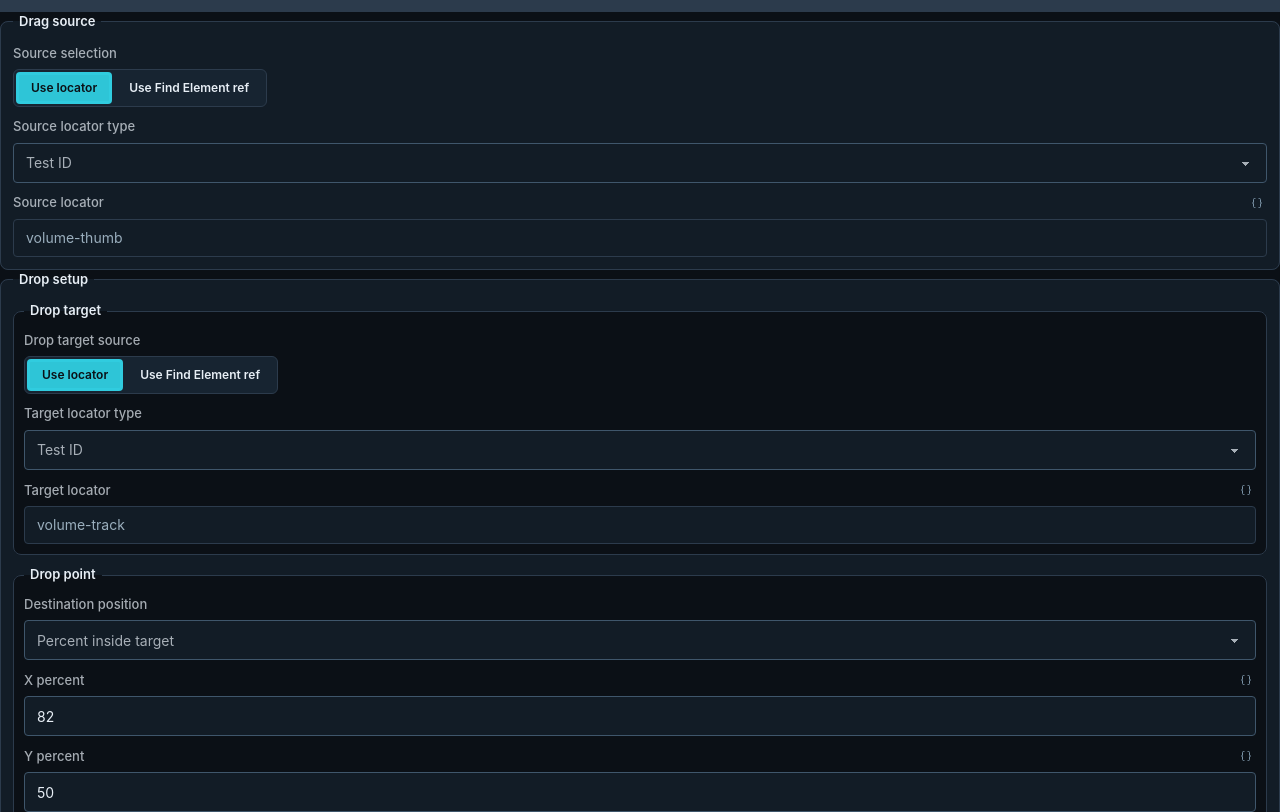
Test: ActionConfigEditor › Drag and Drop editor groups source and drop setup fields
Check: the dropdown labelled "Source locator type" shows "Test ID", box 13,142 -> 1267,182
Check: the field labelled "Source locator" holds "volume-thumb", box 14,220 -> 1266,256
Replace the text in the number field labelled "X percent" with "75" at (640, 716), box 24,696 -> 1256,736
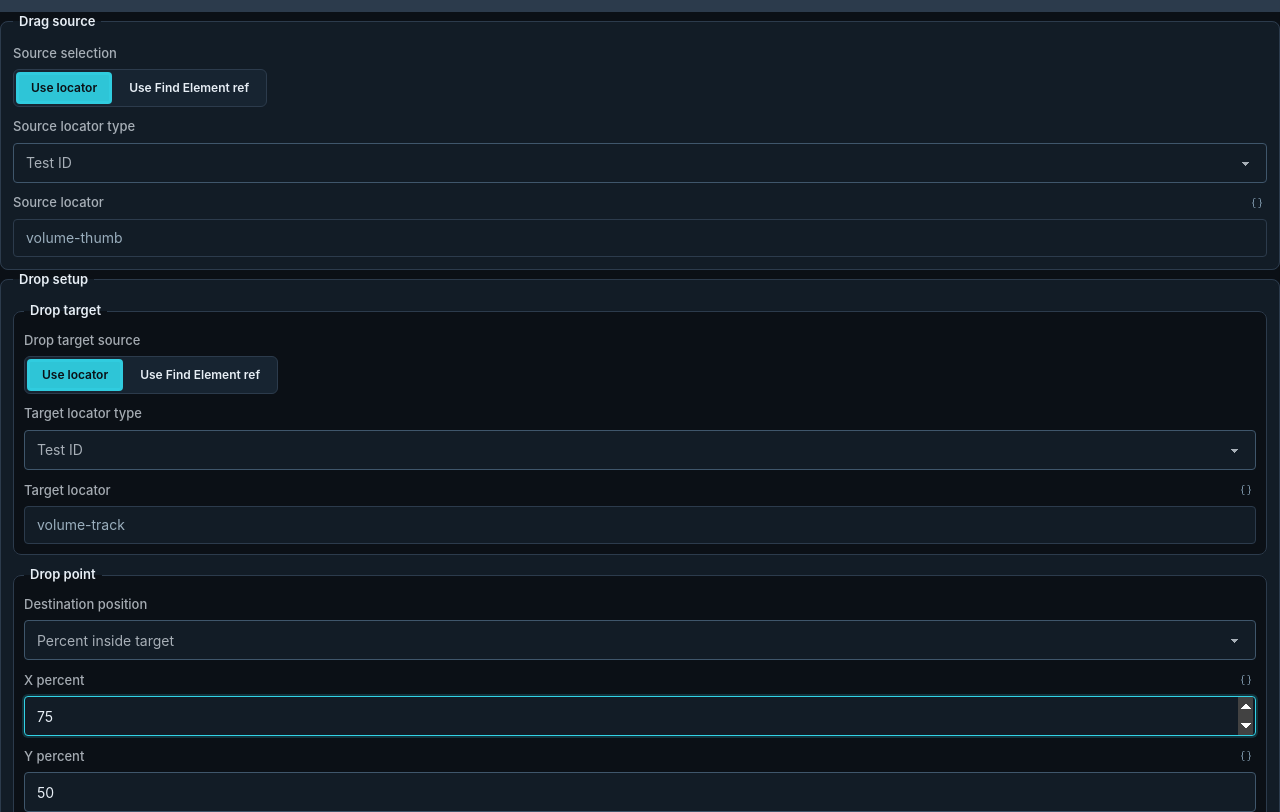
Click the button "Use Find Element ref" below "Source selection".
click(189, 88)  # box 114,72 -> 264,104
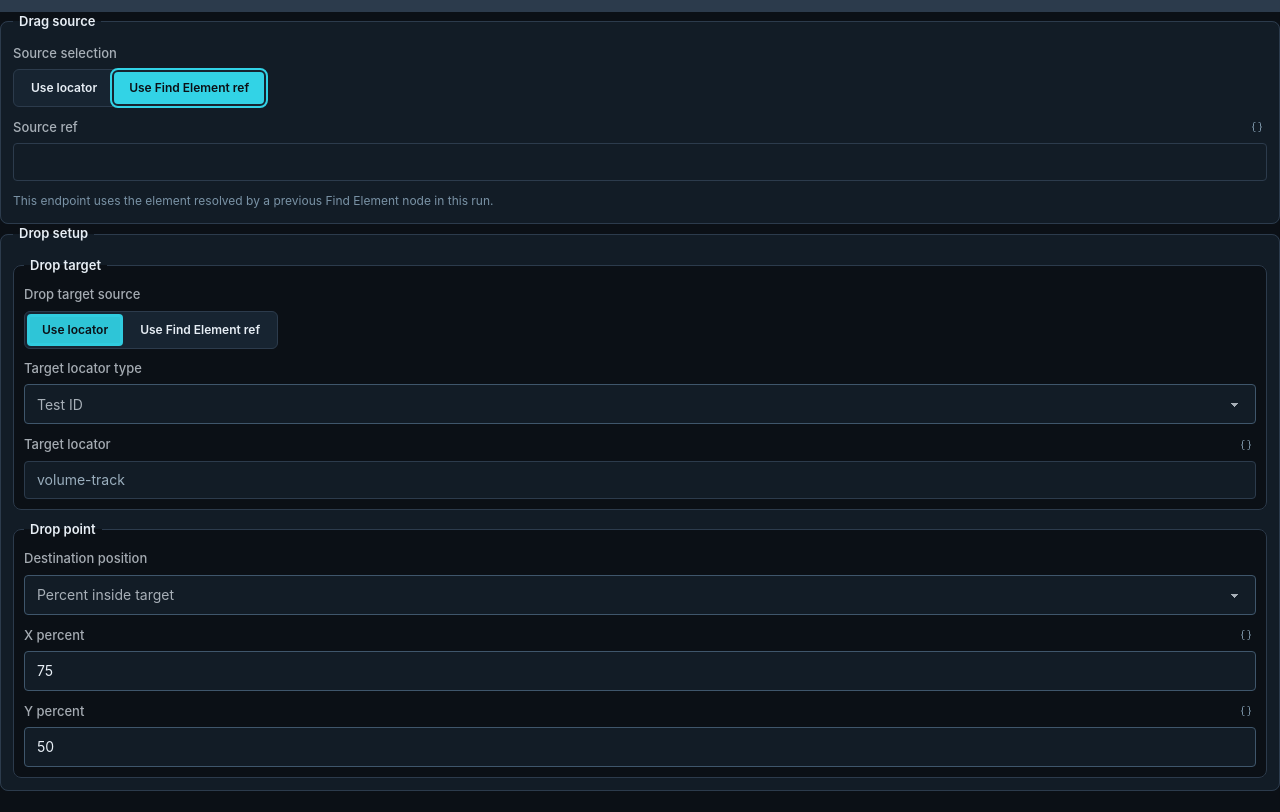
Check: the field labelled "Source ref" is empty
Check: the label labelled "Source locator" is gone
Type "current_thumb" into the field labelled "Source ref".
click(640, 162); type("current_thumb")  # box 14,144 -> 1266,180
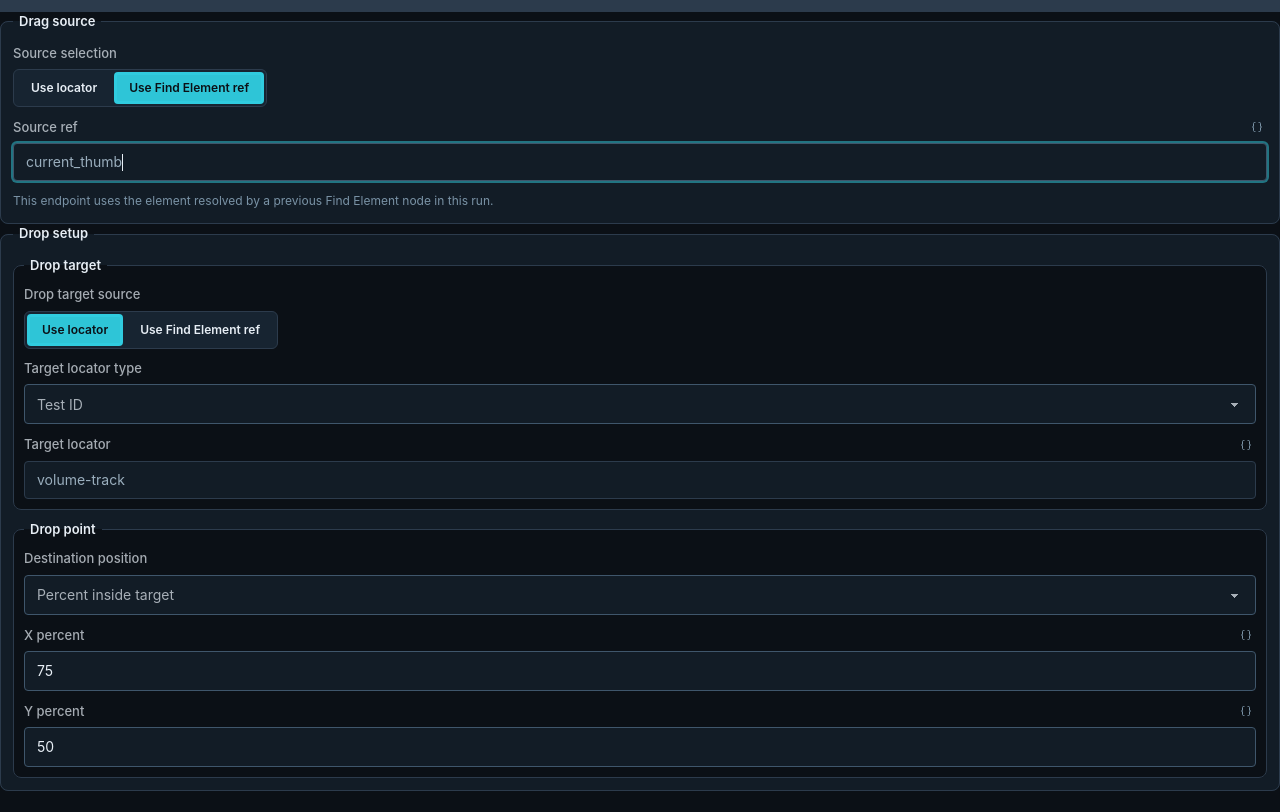
Click the button "Use locator" below "Source selection".
click(64, 88)  # box 16,72 -> 112,104
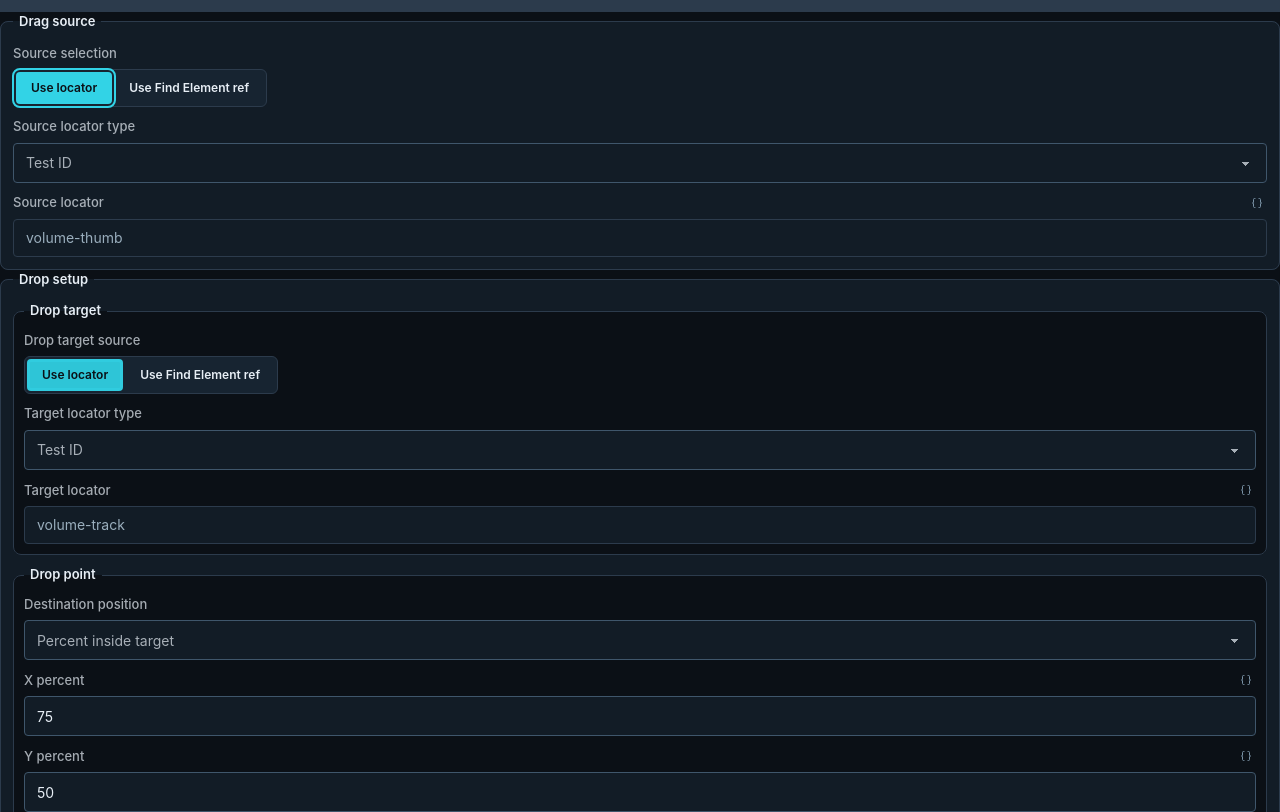
Check: the field labelled "Source locator" holds "volume-thumb", box 14,220 -> 1266,256
Click the button "Use Find Element ref" below "Drop target source".
click(200, 376)  # box 125,360 -> 275,392
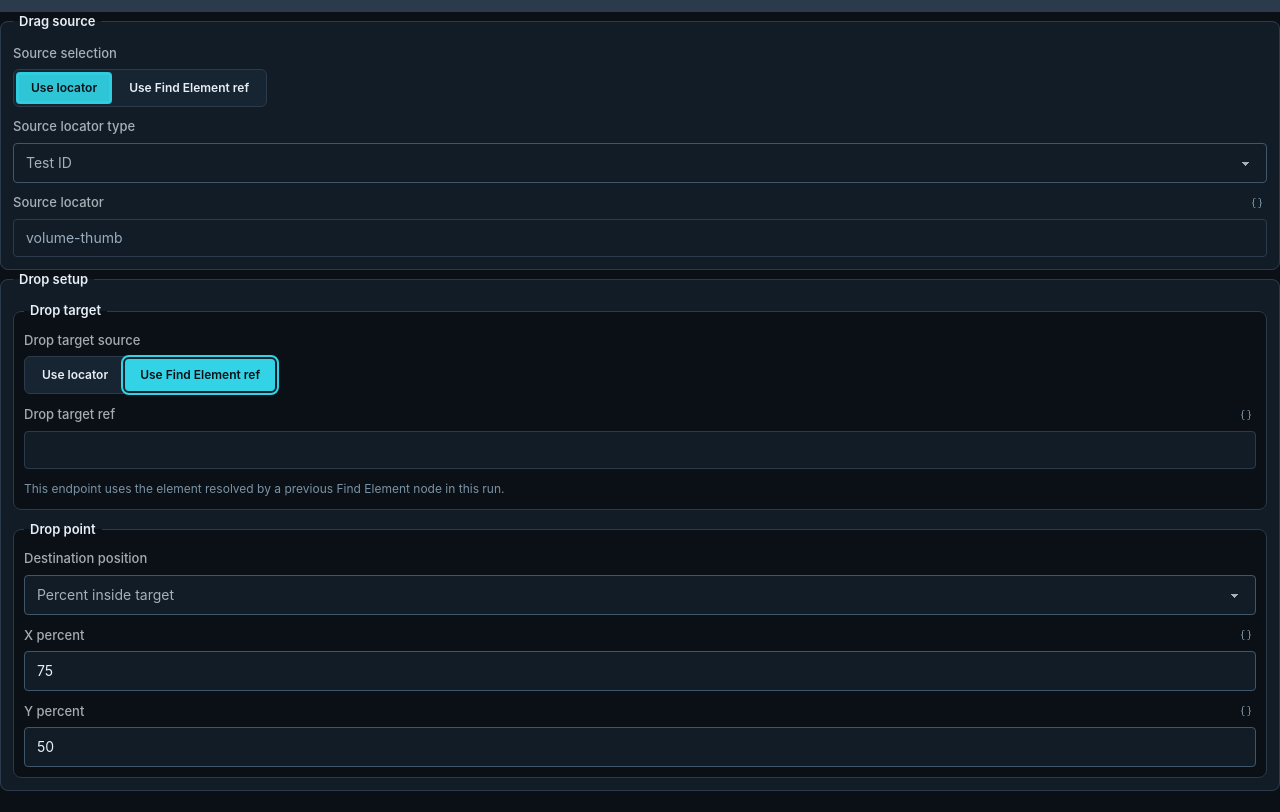
Check: the field labelled "Drop target ref" is empty, box 25,432 -> 1255,468
Check: the label labelled "Target locator" is gone
